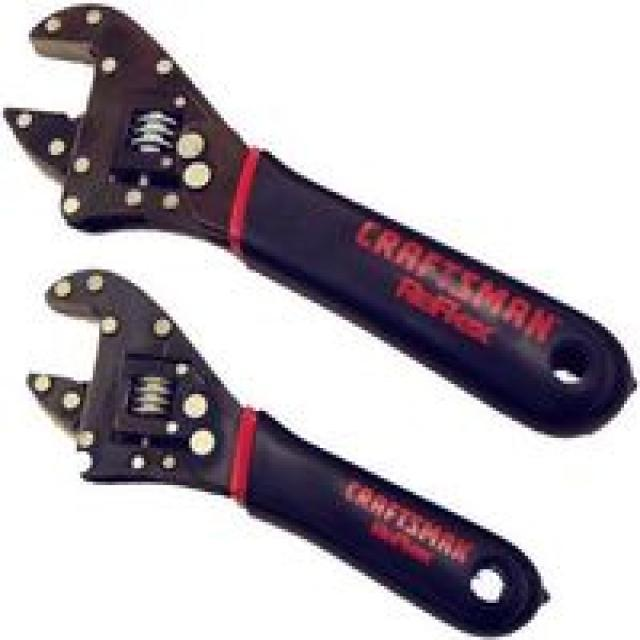wrench: (3, 0, 640, 432), (0, 266, 557, 637)
